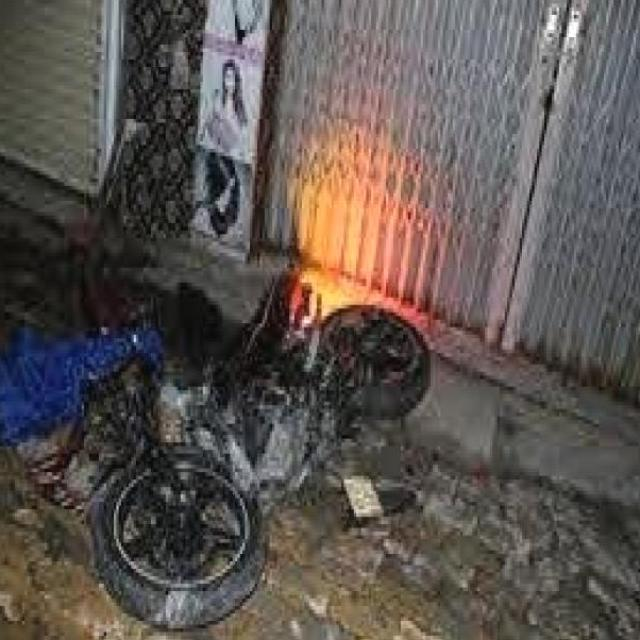accident: (41, 245, 461, 640)
